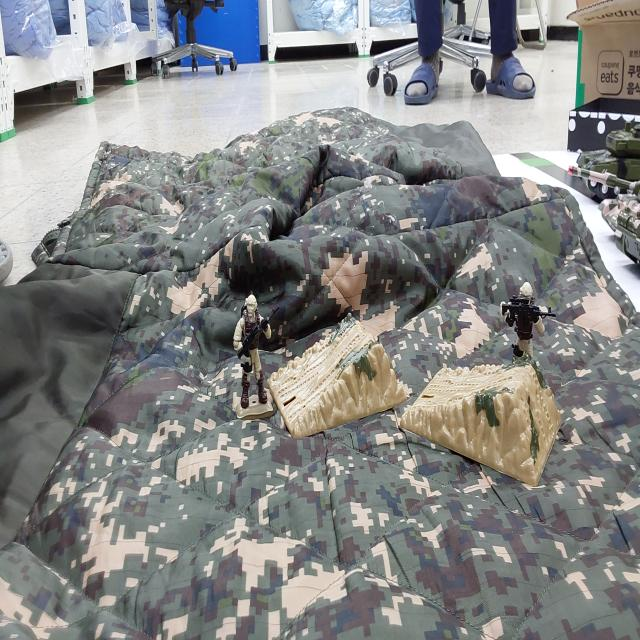ally: (498, 283, 559, 398), (234, 294, 274, 418)
